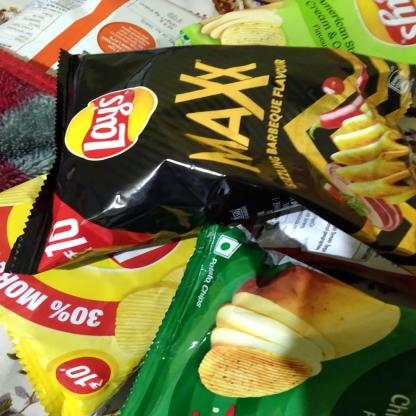plastic: (57, 50, 416, 235)
